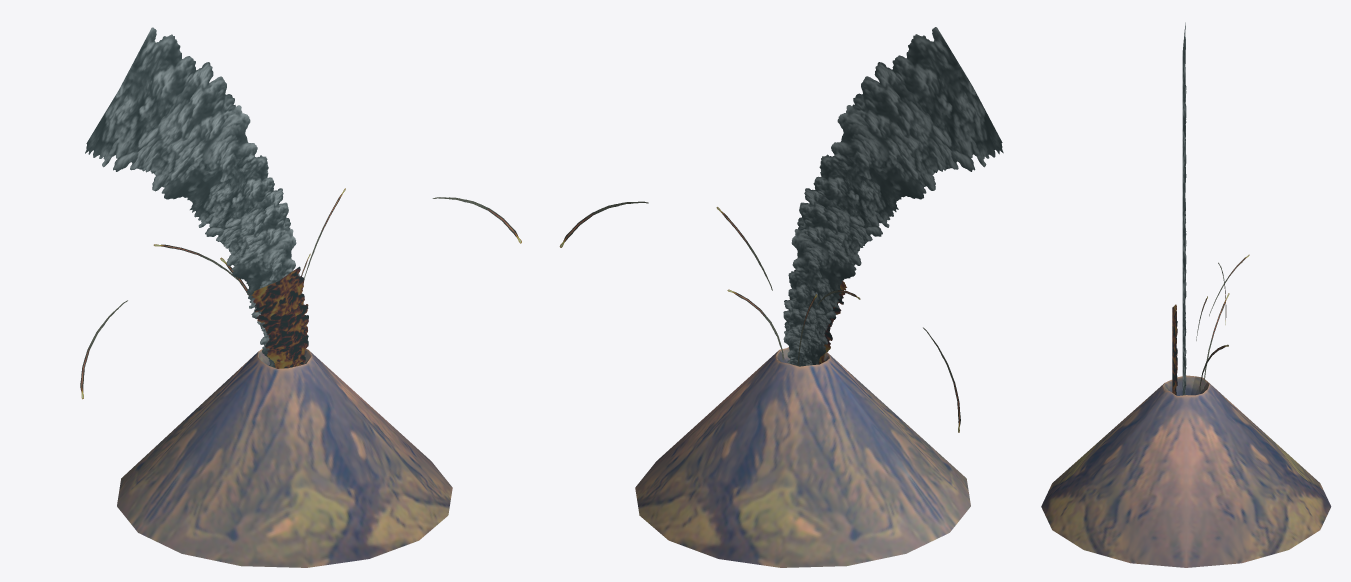
Rendered from volcano_effects.dae.
3 views of the same model, side by side, from view 1: azimuth 30°, elevation 25°; view 2: azimuth 150°, elevation 25°; view 3: azimuth 270°, elevation 25° (orthographic). The views are drawn at different scales.
Visible parts, largest first — view 1: volcano, smoke_grey, smoke_red, sparks; view 2: volcano, smoke_grey, sparks; view 3: volcano, smoke_grey, sparks, smoke_red.
Boxes of the visible parts, x1=… form: volcano: x1=117, y1=349, x2=452, y2=567; smoke_grey: x1=85, y1=27, x2=303, y2=367; smoke_red: x1=251, y1=266, x2=308, y2=368; sparks: x1=80, y1=188, x2=521, y2=399; volcano: x1=635, y1=347, x2=970, y2=567; smoke_grey: x1=783, y1=27, x2=1003, y2=366; sparks: x1=559, y1=201, x2=960, y2=432; volcano: x1=1041, y1=375, x2=1331, y2=567; smoke_grey: x1=1182, y1=22, x2=1186, y2=395; sparks: x1=1196, y1=254, x2=1249, y2=391; smoke_red: x1=1172, y1=304, x2=1177, y2=395.
Size of the model in its own units: 40274 by 26461 by 43455.
Materials: 2 (2 with a texture image).
